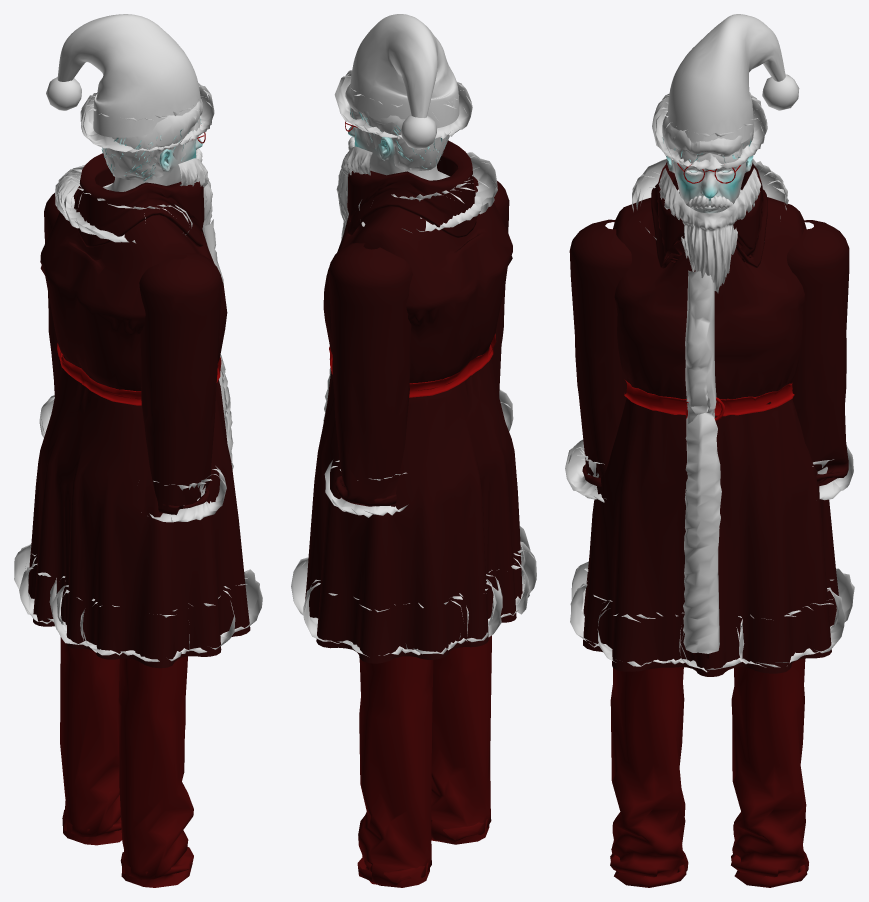
File: viejo_m.glb
3 renders of one model, left to right at view 1: azimuth 30°, elevation 25°; view 2: azimuth 150°, elevation 25°; view 3: azimuth 270°, elevation 25°, orthographic. The views are drawn at different scales.
Visible parts, largest first — view 1: ropa, gorronoel, pelaje, pelo, piel, barba; view 2: ropa, pelaje, gorronoel, pelo, piel, barba; view 3: ropa, pelaje, gorronoel, barba, piel, pelo.
Boxes of the visible parts, box(x1,y1,x2,y2) form: ropa: box(28, 132, 250, 887); gorronoel: box(57, 14, 201, 137); pelaje: box(14, 77, 262, 661); pelo: box(101, 100, 203, 181); piel: box(103, 120, 202, 191); barba: box(178, 158, 212, 229); ropa: box(305, 121, 522, 887); pelaje: box(291, 70, 536, 656); gorronoel: box(349, 14, 459, 128); pelo: box(345, 84, 449, 171); piel: box(348, 108, 449, 180); barba: box(336, 146, 372, 225); ropa: box(569, 162, 849, 887); pelaje: box(565, 74, 854, 672); gorronoel: box(667, 14, 785, 144); barba: box(658, 168, 761, 293); piel: box(666, 151, 753, 213); pelo: box(662, 112, 754, 172).
Bounding box in the file's own units: 0.4399 × 1.8 × 0.551.
